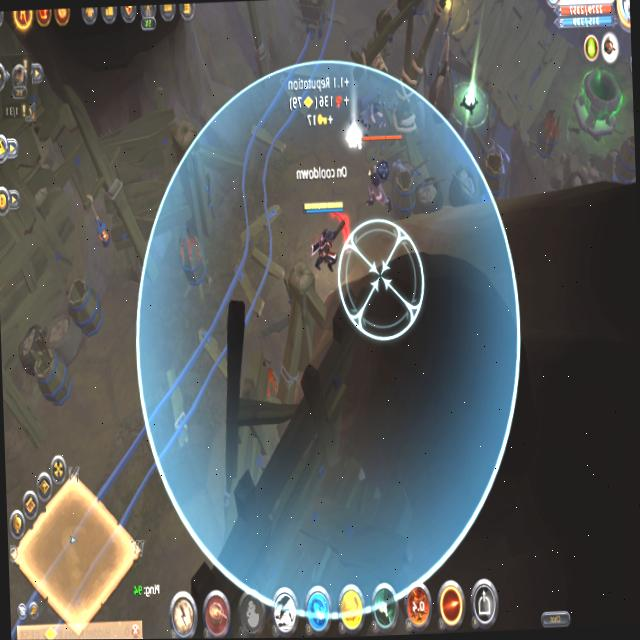ore: (357, 129, 404, 215)
red: (300, 193, 350, 279)
stone: (342, 122, 362, 152)
